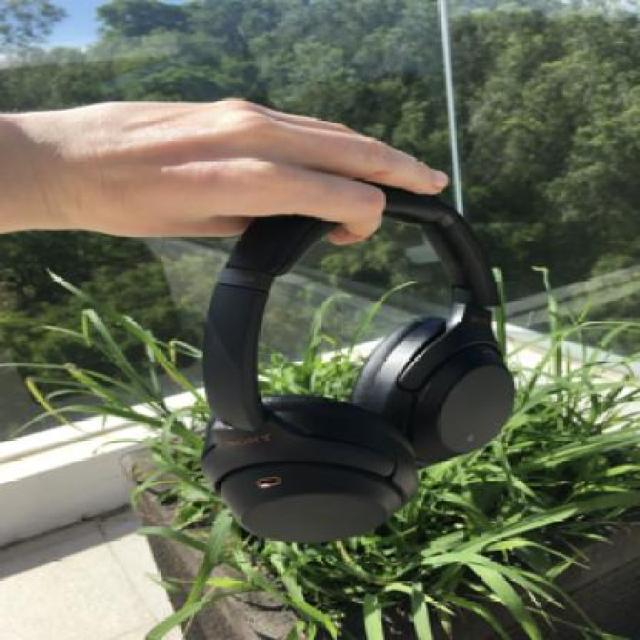earphone: (185, 142, 558, 540)
